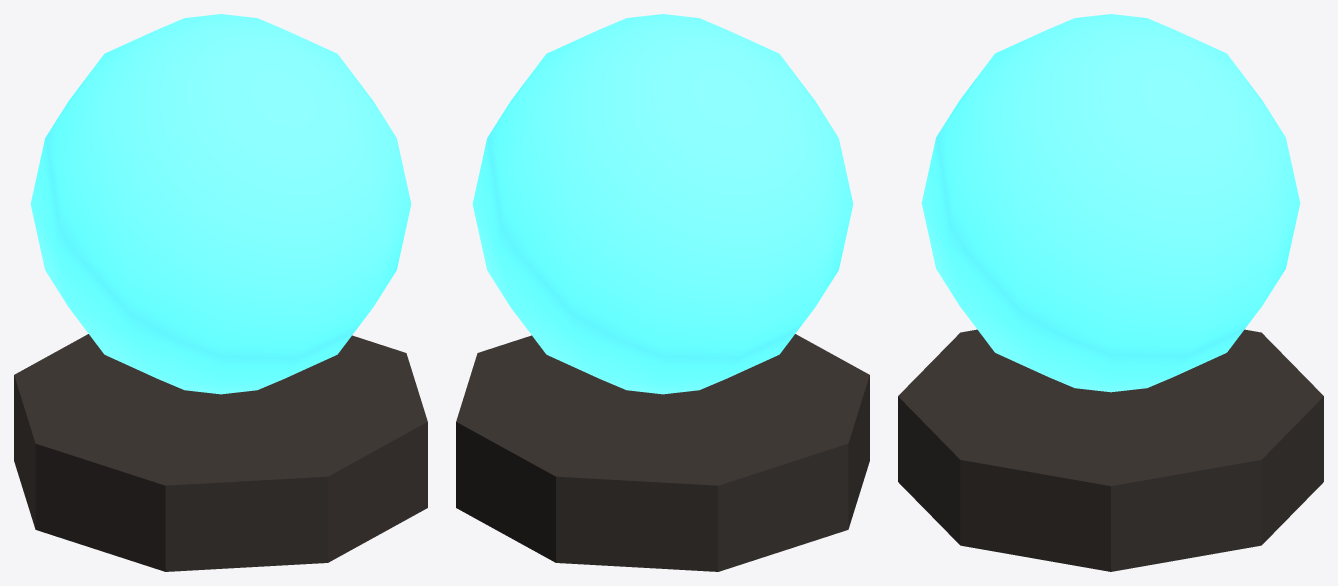
The model's file is Prop_BossCore_B.fbx.
3 views of the same model, side by side, from view 1: azimuth 30°, elevation 25°; view 2: azimuth 150°, elevation 25°; view 3: azimuth 270°, elevation 25° (orthographic).
Parts seen in each view (by area): view 1: Prop_BossCore_B; view 2: Prop_BossCore_B; view 3: Prop_BossCore_B.
Boxes of the visible parts, left/top/right/bottom form: Prop_BossCore_B: left=14, top=14, right=427, bottom=571; Prop_BossCore_B: left=456, top=14, right=869, bottom=571; Prop_BossCore_B: left=898, top=14, right=1323, bottom=571.
Bounding box in the file's own units: 0.09 × 0.105 × 0.09.
